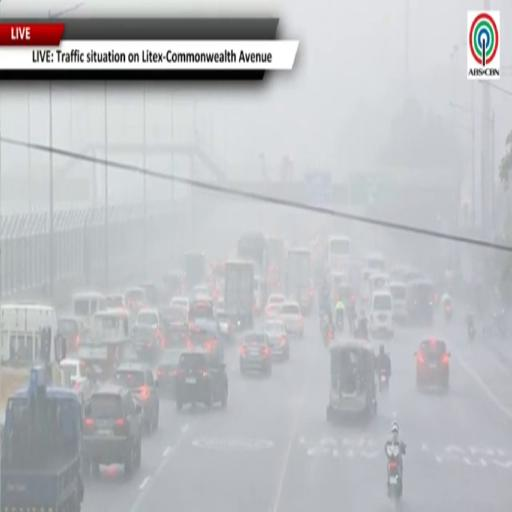bus: (327, 235, 350, 271)
car: (83, 384, 142, 474), (175, 349, 228, 411), (114, 363, 159, 433), (415, 338, 450, 391), (60, 358, 92, 406), (240, 331, 272, 376), (189, 320, 224, 361), (156, 349, 182, 397), (132, 326, 166, 361), (369, 291, 393, 339), (264, 319, 290, 360), (58, 316, 87, 351), (279, 301, 303, 338), (189, 295, 214, 324), (390, 282, 407, 322), (125, 286, 148, 314), (164, 326, 191, 349), (216, 310, 235, 342), (140, 283, 165, 307), (163, 270, 184, 297), (334, 283, 356, 308), (162, 306, 188, 326), (265, 294, 286, 317), (119, 343, 139, 364), (191, 284, 212, 300), (171, 296, 190, 313), (105, 294, 126, 309)
motorcycle: (386, 442, 405, 501), (388, 458, 402, 501), (379, 368, 389, 391), (324, 326, 333, 346), (336, 314, 344, 332), (444, 304, 452, 322), (468, 325, 476, 341)
truck: (0, 366, 83, 511), (224, 261, 254, 330), (286, 248, 313, 314), (237, 232, 267, 277), (267, 237, 286, 290), (184, 252, 206, 291)
